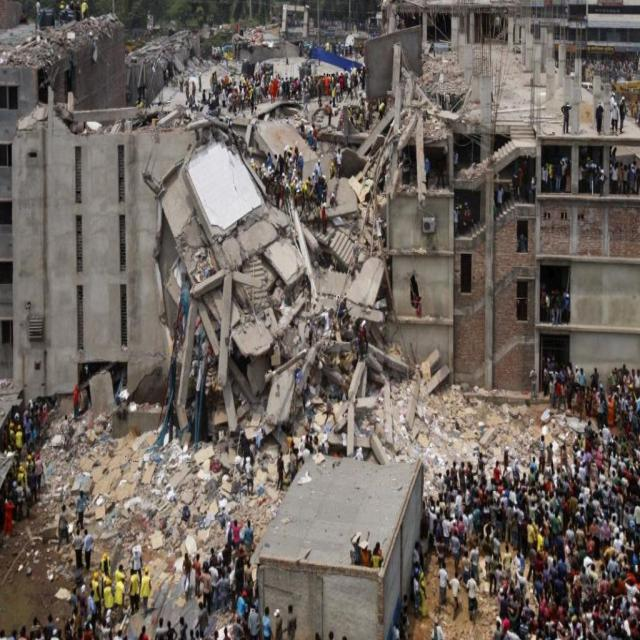collapsed_building: (151, 105, 376, 429)
